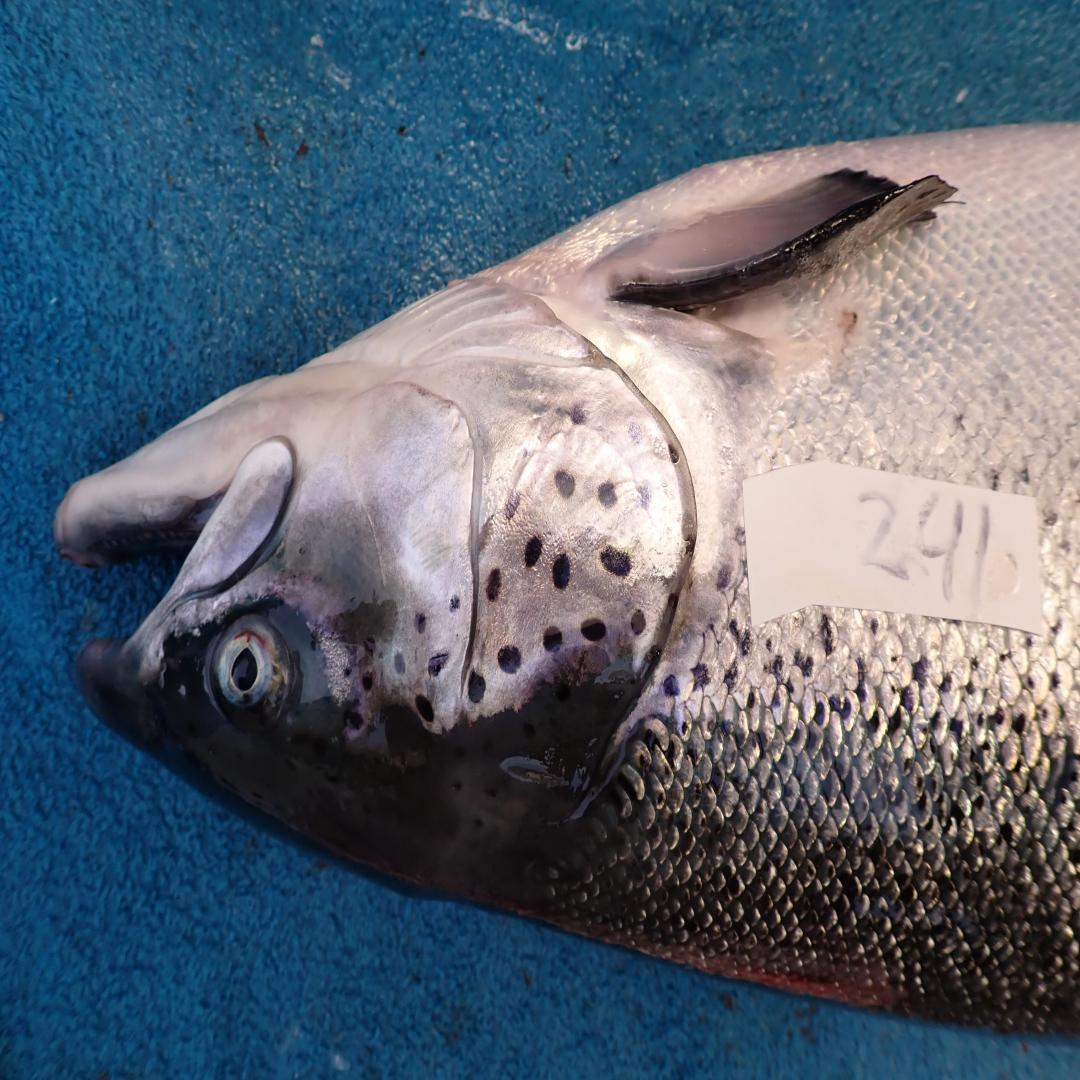spot: (601, 546, 631, 577), (498, 644, 521, 672), (502, 489, 521, 520), (428, 650, 449, 678), (555, 470, 576, 498), (682, 512, 696, 554), (553, 554, 570, 588), (635, 478, 652, 512), (416, 695, 435, 723), (468, 672, 485, 703), (525, 537, 542, 568), (542, 627, 563, 652), (597, 481, 618, 506), (582, 619, 605, 641), (487, 568, 500, 602), (344, 709, 363, 731), (567, 405, 586, 425), (361, 633, 378, 655), (631, 610, 645, 636), (645, 644, 662, 664), (629, 422, 643, 444), (394, 652, 405, 675), (361, 672, 373, 692), (416, 613, 426, 633), (669, 444, 679, 464), (449, 596, 460, 610), (344, 667, 352, 678)
